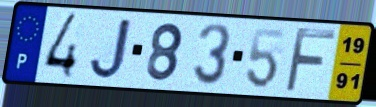3: (191, 22, 233, 88)
4: (41, 11, 80, 81)
5: (244, 26, 288, 90)
8: (144, 20, 184, 84)
F: (282, 25, 338, 94)
J: (87, 16, 135, 81)
